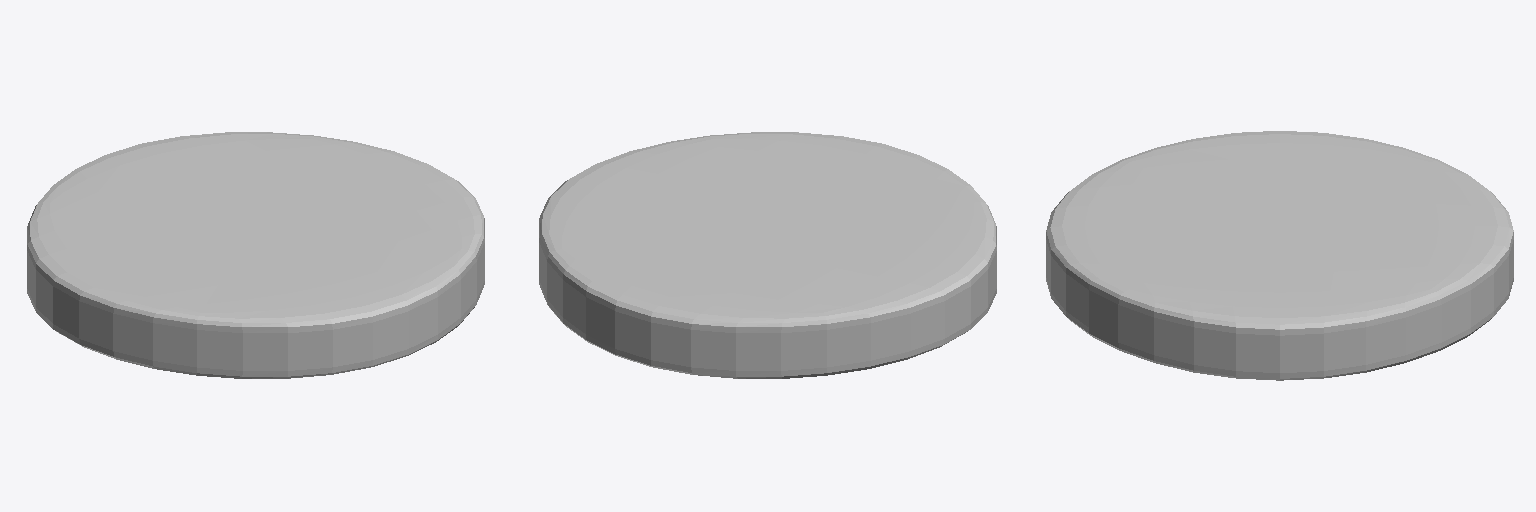
File: lampBase.obj
3 renders of one model, left to right at view 1: azimuth 30°, elevation 25°; view 2: azimuth 150°, elevation 25°; view 3: azimuth 270°, elevation 25°, orthographic.
Parts seen in each view (by area): view 1: Cube; view 2: Cube; view 3: Cube.
Boxes of the visible parts, x1,y1,x2,y2 form: Cube: [27, 132, 484, 378]; Cube: [539, 132, 996, 378]; Cube: [1046, 131, 1513, 380].
Bounding box in the file's own units: 2.66 × 0.3866 × 2.66.